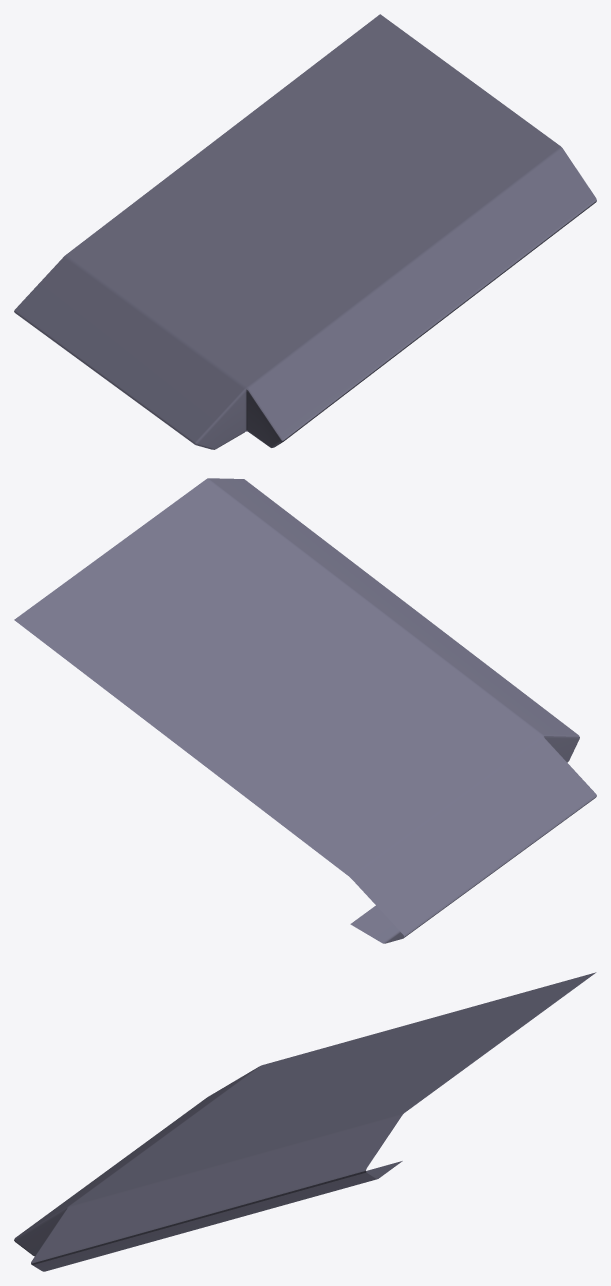
File: SM_RoofBR.fbx
The picture shows the model from 3 angles, top to bottom: view 1: azimuth 30°, elevation 25°; view 2: azimuth 150°, elevation 25°; view 3: azimuth 330°, elevation 25°; orthographic projection. The views are drawn at different scales.
Parts seen in each view (by area): view 1: modular_serious:pCube8; view 2: modular_serious:pCube8; view 3: modular_serious:pCube8.
Boxes of the visible parts, x1,y1,x2,y2 form: modular_serious:pCube8: (14, 14, 596, 449); modular_serious:pCube8: (14, 478, 596, 943); modular_serious:pCube8: (14, 972, 596, 1271).
Bounding box in the file's own units: 349 × 200 × 358.
